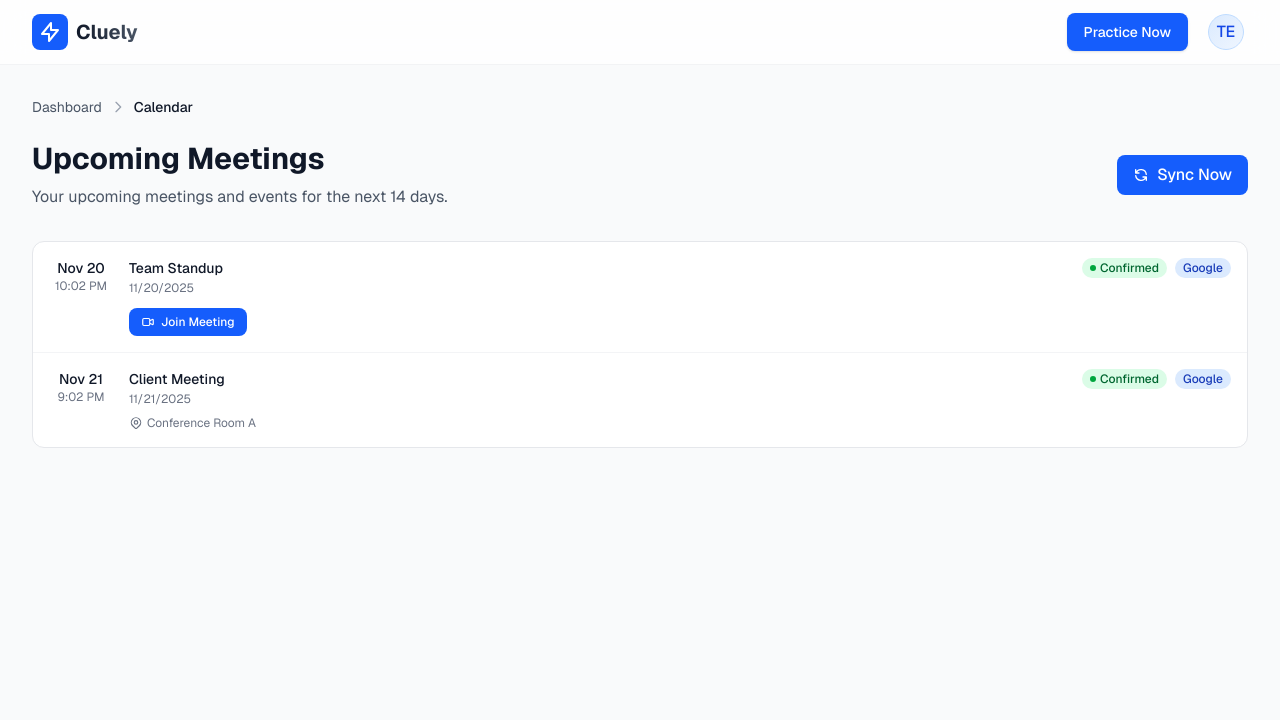
Test: CalendarPage › Sync Functionality › should show success message after successful sync
What coordinates should you click on to do the following:
click the button "Sync Now"
I would click on:
 (1183, 175)
Its box is [1117,155,1248,195].
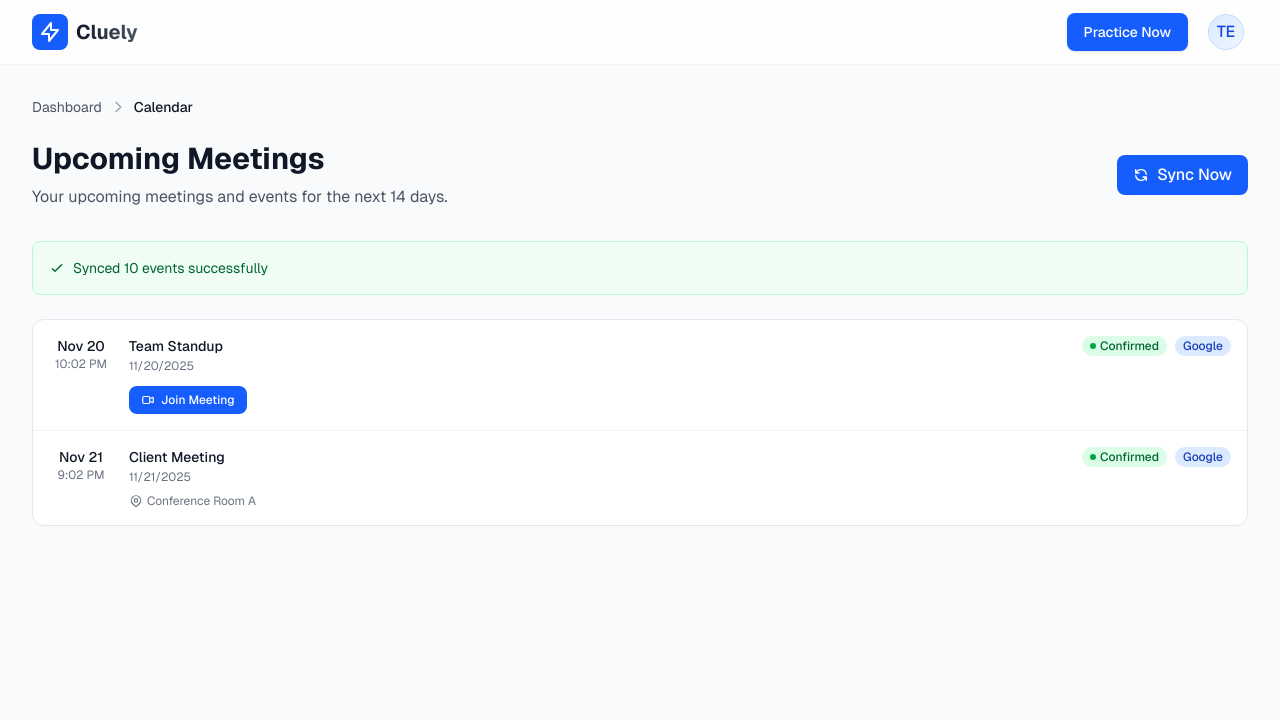
Result: the text "Synced 10 events successfully" is shown at [49,259,268,277]
